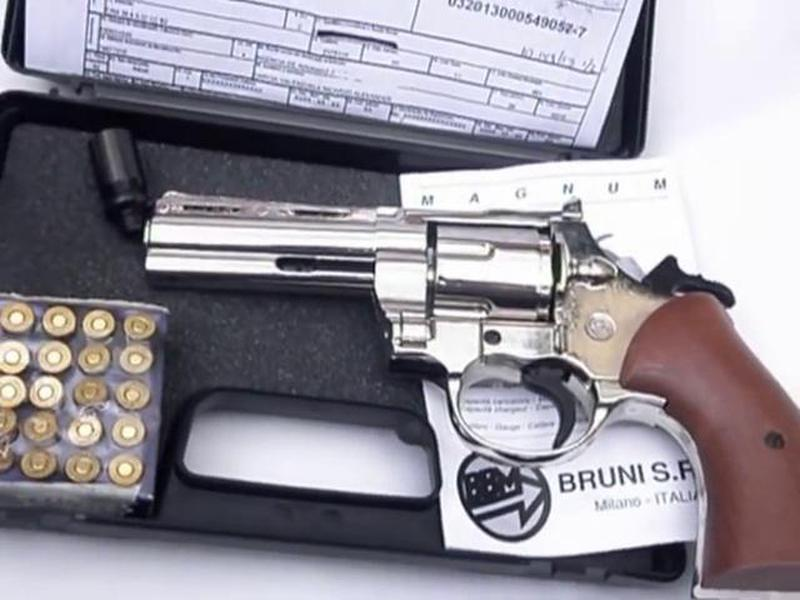Revolver: (152, 164, 800, 520)
